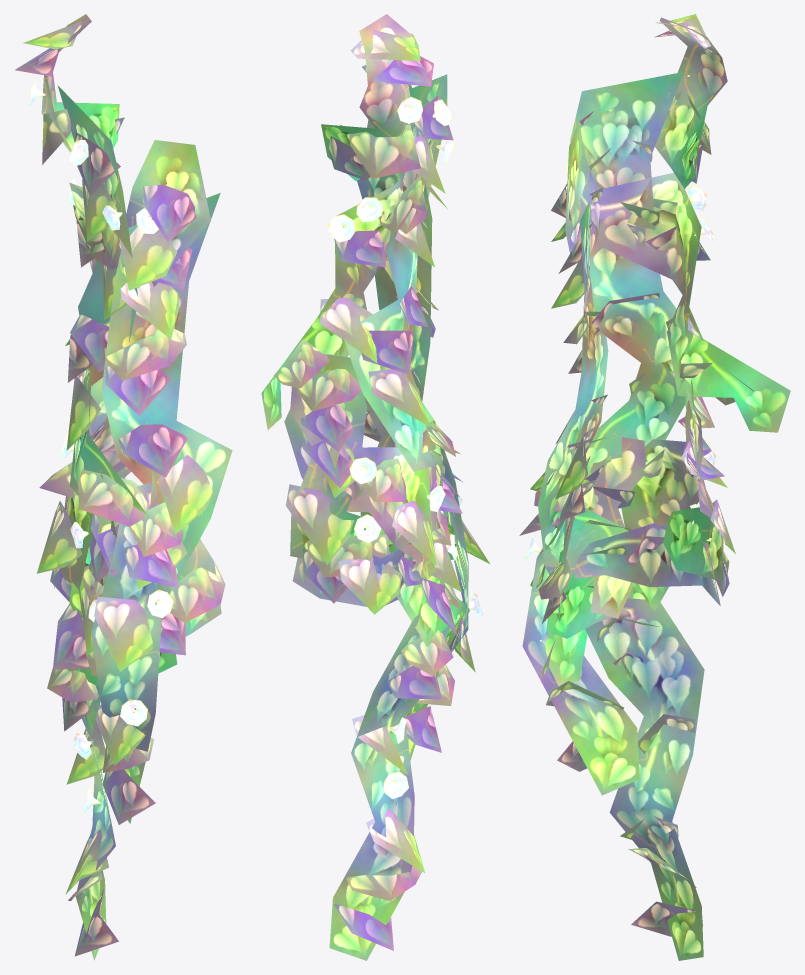
The model's file is moonflower_03_SM.fbx.
3 views of the same model, side by side, from view 1: azimuth 30°, elevation 25°; view 2: azimuth 150°, elevation 25°; view 3: azimuth 270°, elevation 25° (orthographic).
Visible parts, largest first — view 1: moonflower_03_SM_LOD0; view 2: moonflower_03_SM_LOD0; view 3: moonflower_03_SM_LOD0.
Boxes of the visible parts, x1=… form: moonflower_03_SM_LOD0: x1=15, y1=14, x2=232, y2=960; moonflower_03_SM_LOD0: x1=261, y1=14, x2=490, y2=960; moonflower_03_SM_LOD0: x1=519, y1=14, x2=790, y2=960.
Size of the model in its own units: 145 by 231 by 880.
Materials: 2 (2 with a texture image).
